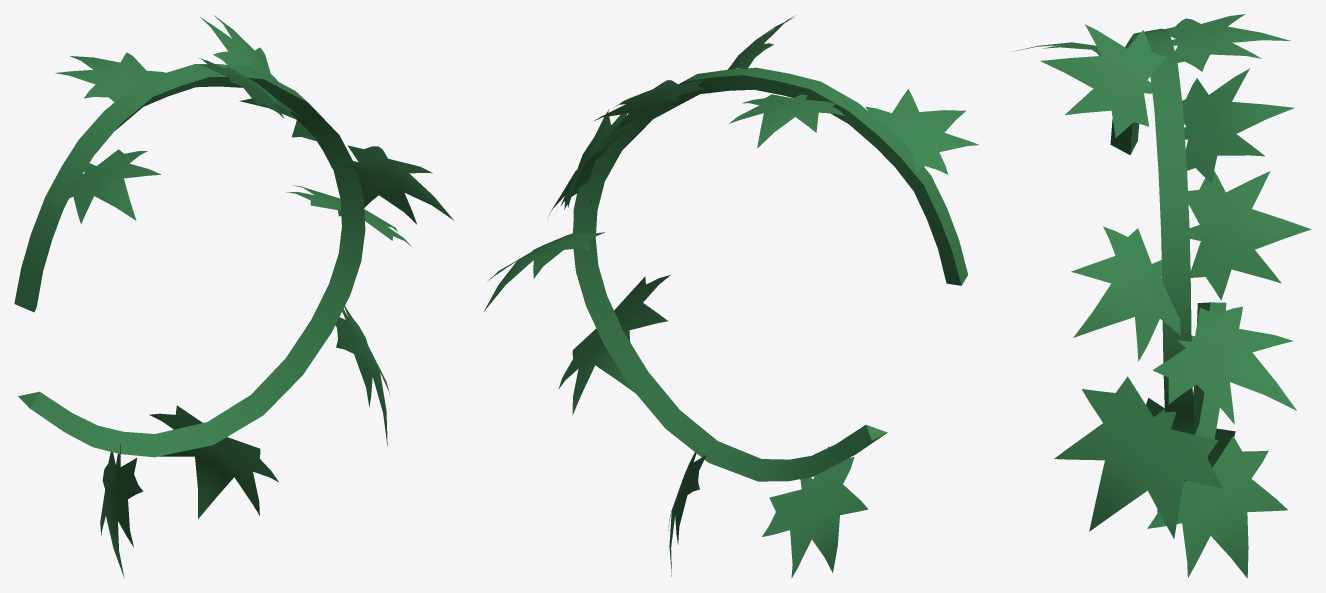
Rendered from vine_U_alangium_loop_big.fbx.
The picture shows the model from 3 angles, left to right: view 1: azimuth 30°, elevation 25°; view 2: azimuth 150°, elevation 25°; view 3: azimuth 270°, elevation 25°; orthographic projection. The views are drawn at different scales.
Parts seen in each view (by area): view 1: vine_U_scanden_loop_big_root, vine_alangium_A_leaf_B88, vine_alangium_A_leaf_B83, vine_alangium_A_leaf_B90, vine_alangium_A_leaf_B, vine_alangium_A_leaf_B89, vine_alangium_A_leaf_B86, vine_alangium_A_leaf_B87, vine_alangium_A_leaf_B85, vine_alangium_A_leaf_B84; view 2: vine_U_scanden_loop_big_root, vine_alangium_A_leaf_B, vine_alangium_A_leaf_B90, vine_alangium_A_leaf_B86, vine_alangium_A_leaf_B89, vine_alangium_A_leaf_B87, vine_alangium_A_leaf_B84, vine_alangium_A_leaf_B88, vine_alangium_A_leaf_B92, vine_alangium_A_leaf_B85, vine_alangium_A_leaf_B83; view 3: vine_alangium_A_leaf_B86, vine_U_scanden_loop_big_root, vine_alangium_A_leaf_B92, vine_alangium_A_leaf_B84, vine_alangium_A_leaf_B88, vine_alangium_A_leaf_B83, vine_alangium_A_leaf_B85, vine_alangium_A_leaf_B87, vine_alangium_A_leaf_B89, vine_alangium_A_leaf_B.
Boxes of the visible parts, <box> form: vine_U_scanden_loop_big_root: <box>14,64,365,457</box>; vine_alangium_A_leaf_B88: <box>149,405,278,518</box>; vine_alangium_A_leaf_B83: <box>337,145,453,224</box>; vine_alangium_A_leaf_B90: <box>50,149,160,224</box>; vine_alangium_A_leaf_B: <box>100,444,143,577</box>; vine_alangium_A_leaf_B89: <box>55,52,165,102</box>; vine_alangium_A_leaf_B86: <box>335,302,389,446</box>; vine_alangium_A_leaf_B87: <box>200,15,278,81</box>; vine_alangium_A_leaf_B85: <box>198,58,301,118</box>; vine_alangium_A_leaf_B84: <box>286,185,411,246</box>; vine_U_scanden_loop_big_root: <box>572,67,967,481</box>; vine_alangium_A_leaf_B: <box>762,446,868,577</box>; vine_alangium_A_leaf_B90: <box>866,89,978,174</box>; vine_alangium_A_leaf_B86: <box>558,275,670,414</box>; vine_alangium_A_leaf_B89: <box>729,94,844,148</box>; vine_alangium_A_leaf_B87: <box>594,80,705,128</box>; vine_alangium_A_leaf_B84: <box>484,231,604,311</box>; vine_alangium_A_leaf_B88: <box>668,452,706,576</box>; vine_alangium_A_leaf_B92: <box>549,123,632,214</box>; vine_alangium_A_leaf_B85: <box>709,15,795,94</box>; vine_alangium_A_leaf_B83: <box>560,109,626,215</box>; vine_alangium_A_leaf_B86: <box>1054,376,1222,538</box>; vine_U_scanden_loop_big_root: <box>1110,28,1226,457</box>; vine_alangium_A_leaf_B92: <box>1188,171,1311,300</box>; vine_alangium_A_leaf_B84: <box>1152,306,1296,424</box>; vine_alangium_A_leaf_B88: <box>1147,436,1287,578</box>; vine_alangium_A_leaf_B83: <box>1071,226,1180,361</box>; vine_alangium_A_leaf_B85: <box>1040,24,1166,138</box>; vine_alangium_A_leaf_B87: <box>1182,68,1294,183</box>; vine_alangium_A_leaf_B89: <box>1164,14,1290,71</box>; vine_alangium_A_leaf_B: <box>1146,398,1235,512</box>.
Bounding box in the file's own units: 67.46 × 77.89 × 40.35.
